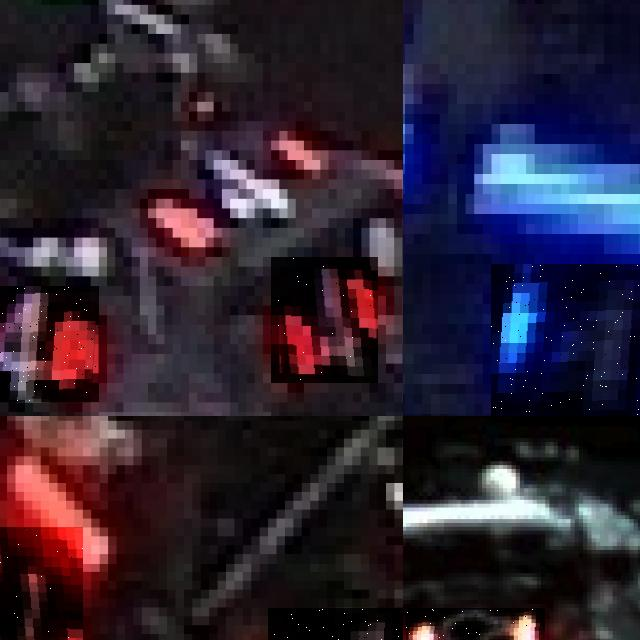B4: (491, 264, 640, 416)
R1: (0, 527, 83, 640)
R4: (271, 257, 378, 383), (0, 285, 98, 402)
Rs: (406, 608, 545, 640)
